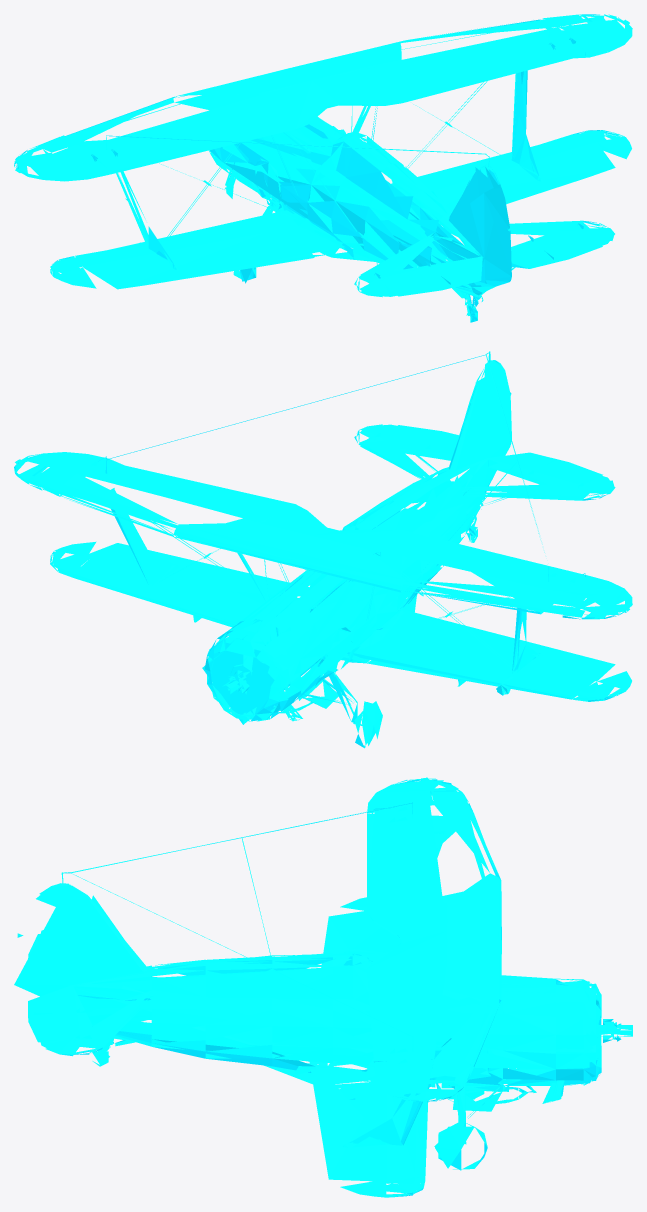
The model's file is PAAD002.glb.
3 renders of one model, top to bottom at view 1: azimuth 30°, elevation 25°; view 2: azimuth 150°, elevation 25°; view 3: azimuth 270°, elevation 25°, orthographic. The views are drawn at different scales.
Parts seen in each view (by area): view 1: misc; view 2: misc; view 3: misc.
Part boxes in pixels (<box>): misc: <box>14,14,632,322</box>; misc: <box>14,351,632,748</box>; misc: <box>14,777,632,1197</box>.
Size of the model in its own units: 0.6888 by 0.263 by 0.5566.
